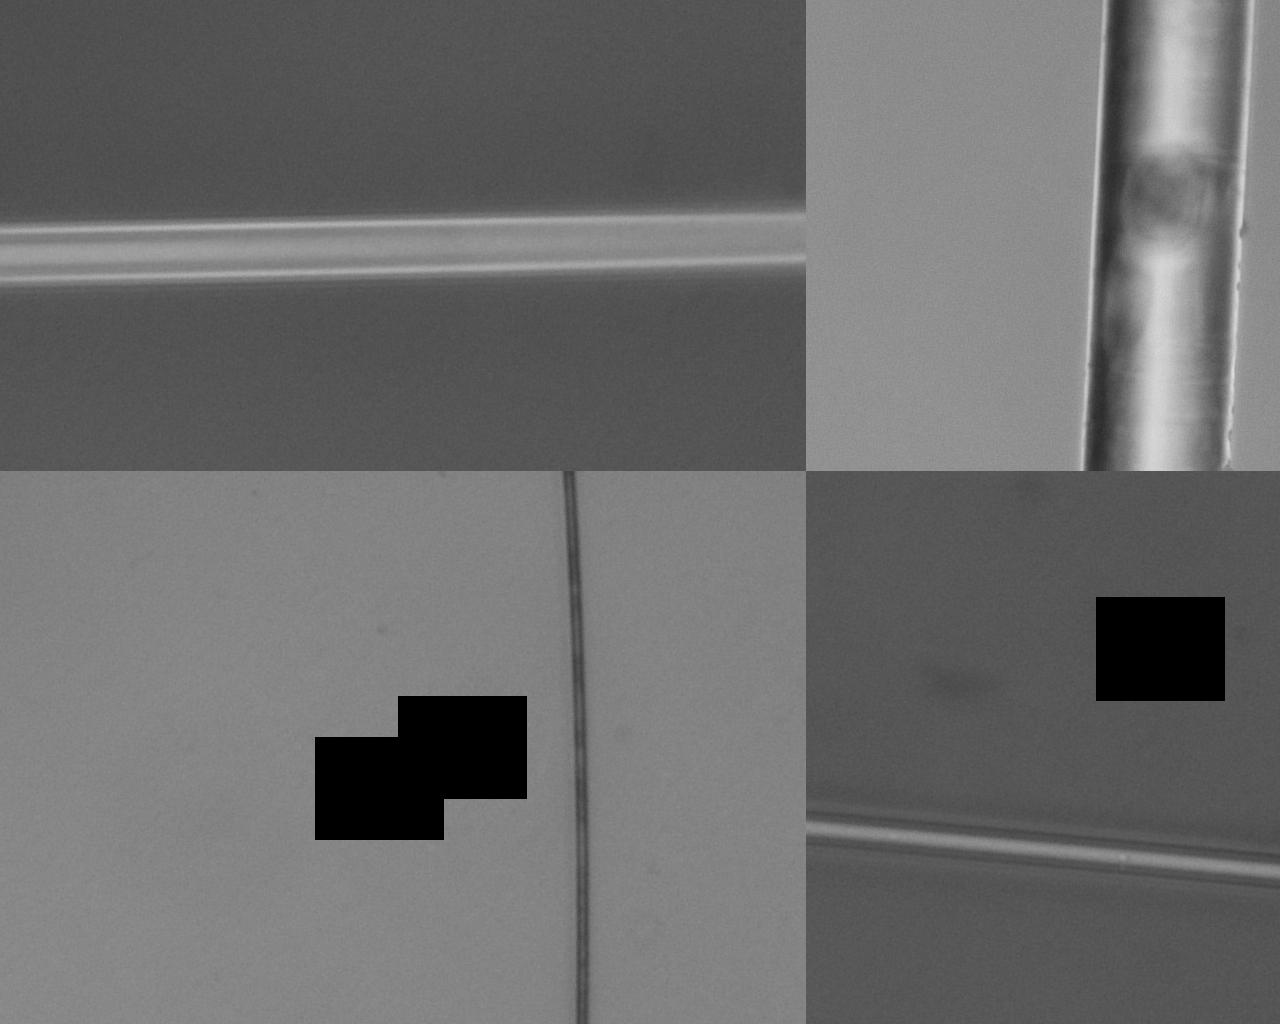fiber: (601, 144, 1280, 614), (0, 326, 138, 614)
